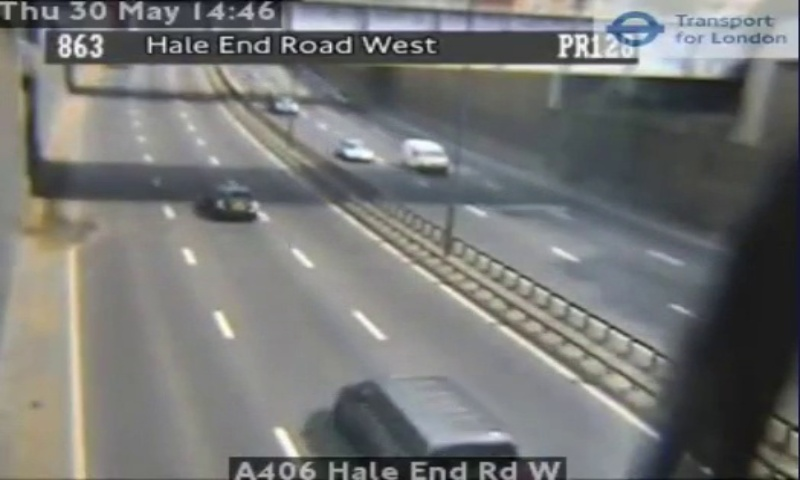car: (204, 185, 258, 218)
van: (337, 375, 517, 456)
